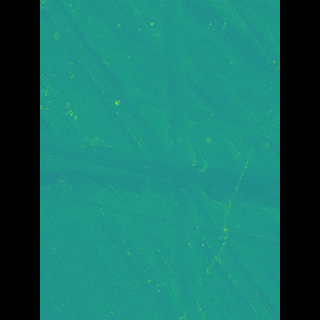Loch: (69, 132, 250, 206), (157, 0, 191, 320)
